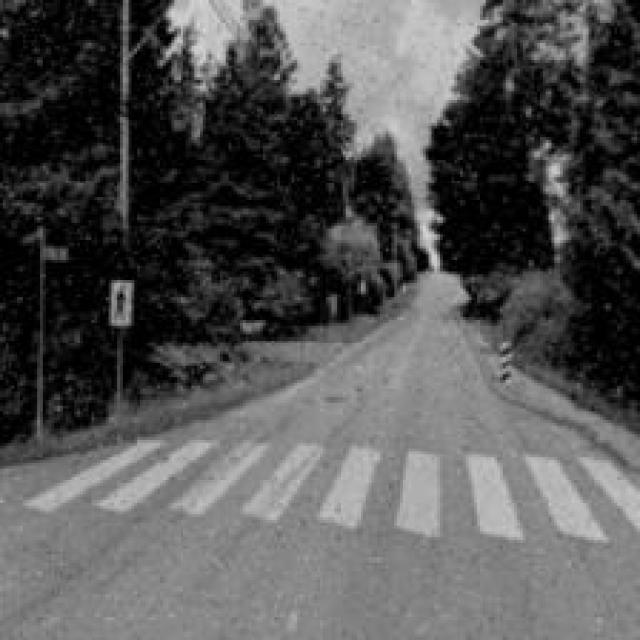walk-crossing: (37, 434, 637, 540)
